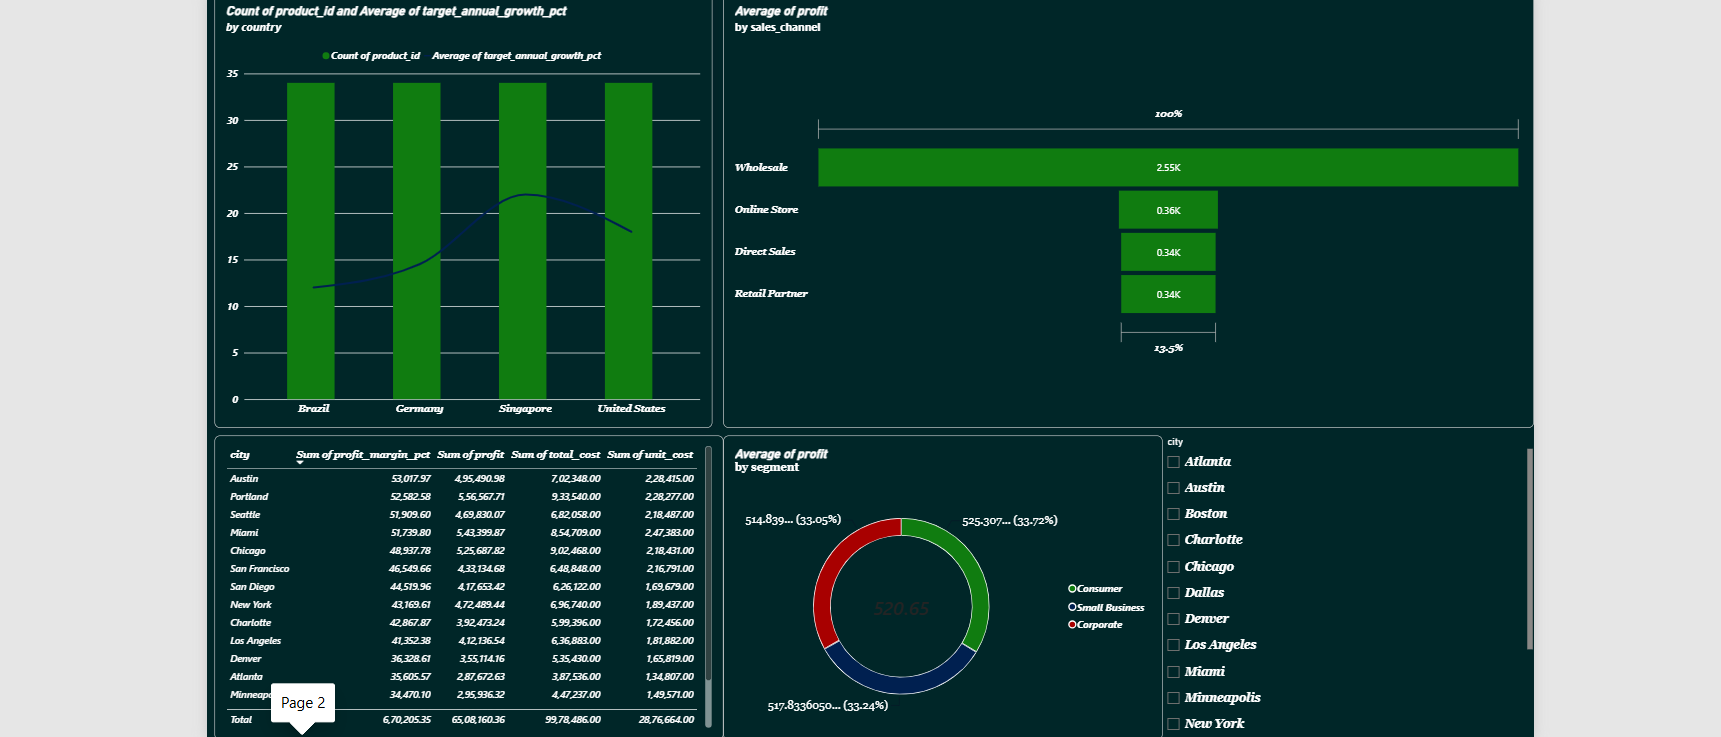

Layout of this report page (visuals, bound fields, positions):
{"tool":"powerbi","page":{"name":"Page 2","canvas":[1920,1080],"ordinal":1},"visuals":[{"type":"lineStackedColumnComboChart","fields":{"Y2":["Avg(bi_analytics_db dim_regions.target_annual_growth_pct)"],"Category":["bi_analytics_db dim_regions.country"],"Y":["CountNonNull(bi_analytics_db dim_products.product_id)"]},"box":[10.3,0,720.4,629.8],"z":0},{"type":"funnel","fields":{"Y":["Avg(bi_analytics_db fact_sales.profit)"],"Category":["bi_analytics_db fact_sales.sales_channel"]},"box":[747.2,0,1173.2,629.8],"z":1000},{"type":"tableEx","fields":{"Values":["bi_analytics_db dim_customers.city","Sum(bi_analytics_db fact_sales.profit_margin_pct)","Sum(bi_analytics_db fact_sales.profit)","Sum(bi_analytics_db fact_sales.total_cost)","Sum(bi_analytics_db fact_sales.unit_cost)"]},"box":[10.3,640.1,736.9,440.5],"z":2000},{"type":"donutChart","fields":{"Y":["Avg(bi_analytics_db fact_sales.profit)"],"Category":["bi_analytics_db dim_customers.segment"]},"box":[747.2,640.1,636,440.5],"z":3000},{"type":"slicer","fields":{"Values":["bi_analytics_db dim_customers.city"]},"box":[1383,640,537,440],"z":3001}]}

Visuals, with their boxes on the page's 1920x1080 design canvas (x1, y1, x2, y2). These are canvas units, not pixel positions in the 1721x737 screenshot, which may show the page scaled, cropped or inside an application window:
lineStackedColumnComboChart - Avg(bi_analytics_db dim_regions.target_annual_growth_pct) x bi_analytics_db dim_regions.country: {"x1": 10, "y1": 0, "x2": 731, "y2": 630}
funnel - Avg(bi_analytics_db fact_sales.profit) x bi_analytics_db fact_sales.sales_channel: {"x1": 747, "y1": 0, "x2": 1920, "y2": 630}
tableEx - bi_analytics_db dim_customers.city x Sum(bi_analytics_db fact_sales.profit_margin_pct): {"x1": 10, "y1": 640, "x2": 747, "y2": 1081}
donutChart - Avg(bi_analytics_db fact_sales.profit) x bi_analytics_db dim_customers.segment: {"x1": 747, "y1": 640, "x2": 1383, "y2": 1081}
slicer - bi_analytics_db dim_customers.city: {"x1": 1383, "y1": 640, "x2": 1920, "y2": 1080}
